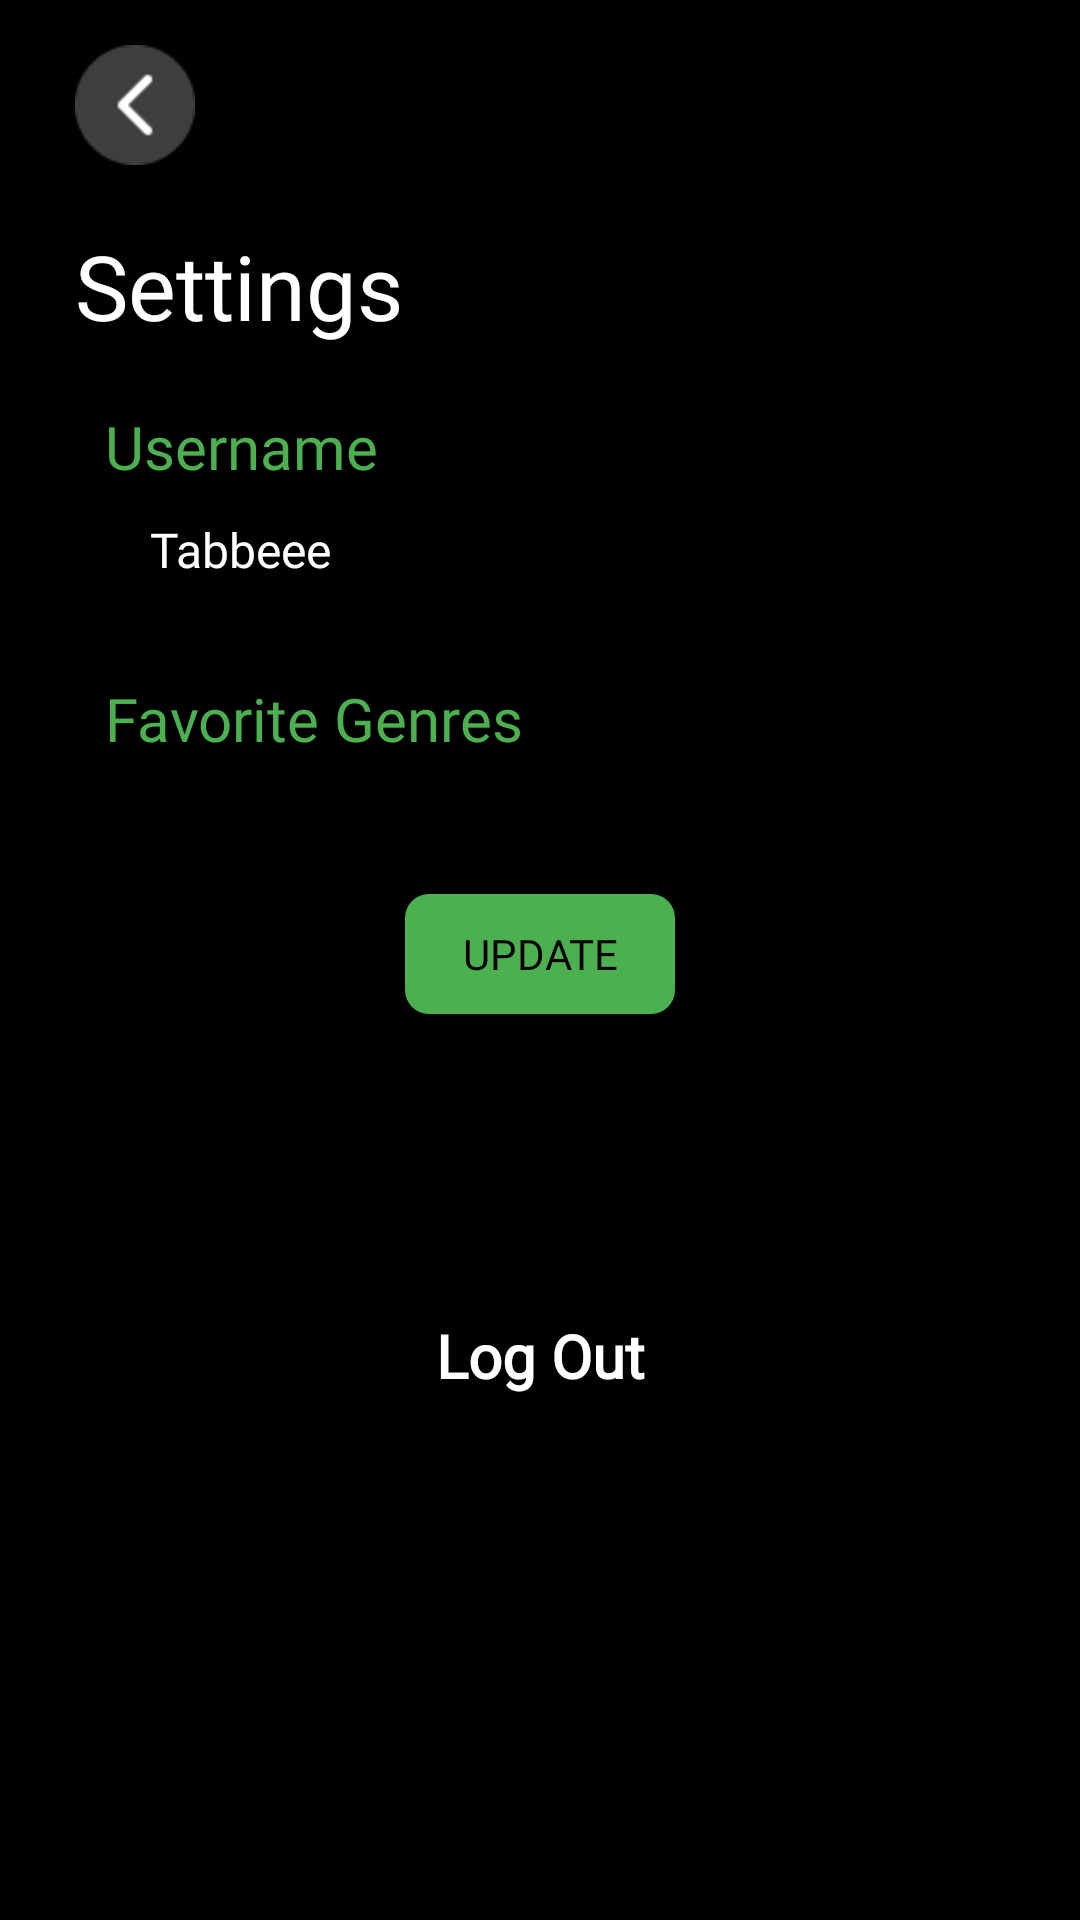

Point at icon controls on the screen. Image size 1080×1920, points as point (x, y).
back: point (135, 105)
